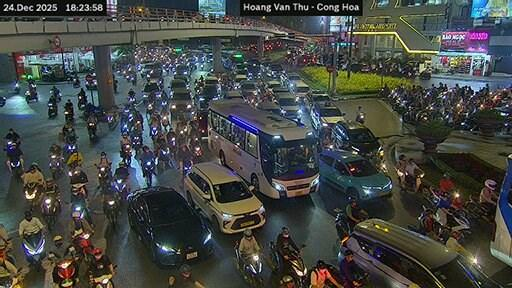motorbike: (233, 241, 262, 286), (440, 210, 470, 241), (22, 230, 44, 270), (284, 251, 307, 286), (71, 230, 93, 264), (464, 193, 489, 220), (41, 190, 58, 229), (54, 257, 76, 286), (102, 193, 118, 226), (336, 210, 351, 238), (70, 201, 90, 221), (268, 242, 282, 270), (402, 171, 422, 189), (112, 176, 128, 198), (26, 181, 38, 210), (96, 166, 111, 189), (157, 145, 172, 167), (48, 154, 61, 178), (0, 271, 19, 287), (141, 160, 153, 185), (9, 157, 22, 180), (93, 274, 112, 287), (191, 139, 201, 162), (105, 113, 117, 130), (121, 145, 131, 165), (167, 135, 176, 157), (131, 134, 141, 153), (86, 121, 96, 139), (64, 139, 76, 153), (176, 127, 185, 145), (25, 90, 38, 102), (48, 100, 57, 117), (160, 115, 169, 130), (77, 94, 86, 108), (50, 89, 60, 100), (355, 112, 364, 124), (64, 108, 73, 120), (146, 103, 153, 117), (12, 81, 19, 94), (419, 70, 428, 79), (149, 126, 157, 136), (435, 208, 441, 220), (73, 76, 80, 86), (128, 93, 134, 103)
